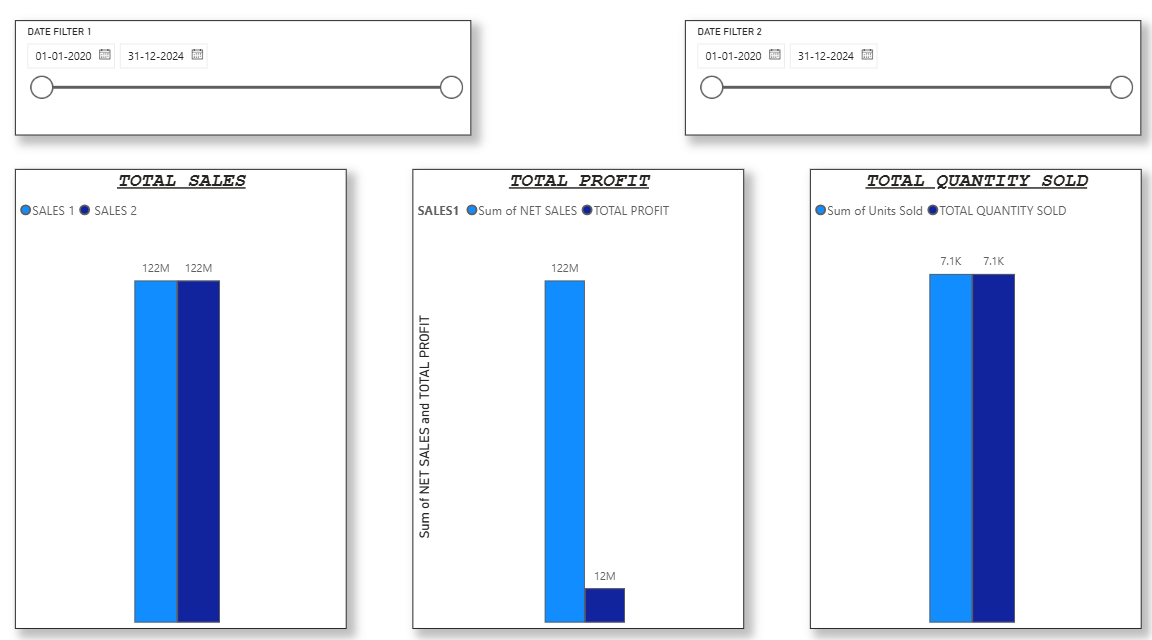

Layout of this report page (visuals, bound fields, positions):
{"tool":"powerbi","page":{"name":"RELATIONSHIP BETWEEN SALES , PROFIT AND QUANTITY SOLD","canvas":[1280,720],"ordinal":2},"visuals":[{"type":"slicer","fields":{"Values":["DATE Table 1.Date"]},"box":[22,28.8,500.9,126.2],"z":0},{"type":"slicer","fields":{"Values":["DATE Table2.Date"]},"box":[757.5,28.8,500.9,126.2],"z":1000},{"type":"clusteredColumnChart","title":"TOTAL SALES","fields":{"Y":["Sum(Fact table.NET SALES)","DATE Table 1.SUM OF NET SALES"]},"box":[22,192.1,363.6,505],"z":2000},{"type":"clusteredColumnChart","title":"TOTAL PROFIT","fields":{"Y":["Sum(Fact table.NET SALES)","MEASURE TABLE.TOTAL PROFIT"]},"box":[458.3,192.1,363.6,505],"z":3000},{"type":"clusteredColumnChart","title":"TOTAL QUANTITY SOLD","fields":{"Y":["Sum(Fact table.Units Sold)","MEASURE TABLE.TOTAL QUANTITY SOLD"]},"box":[894.7,192.1,363.6,505],"z":4000}]}

Visuals, with their boxes in screenshot pixels (x1, y1, x2, y2), scaled from the page's 1280x720 canvas onto the 1152x640 screenshot:
slicer - DATE Table 1.Date: select_region(20, 26, 471, 138)
slicer - DATE Table2.Date: select_region(682, 26, 1133, 138)
"TOTAL SALES" clusteredColumnChart: select_region(20, 171, 347, 620)
"TOTAL PROFIT" clusteredColumnChart: select_region(412, 171, 740, 620)
"TOTAL QUANTITY SOLD" clusteredColumnChart: select_region(805, 171, 1132, 620)
